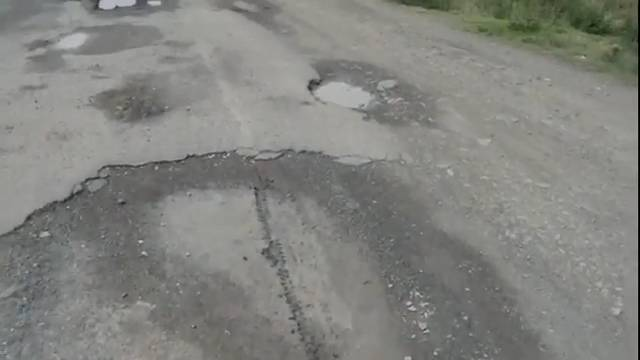pothole: (408, 50, 578, 248)
